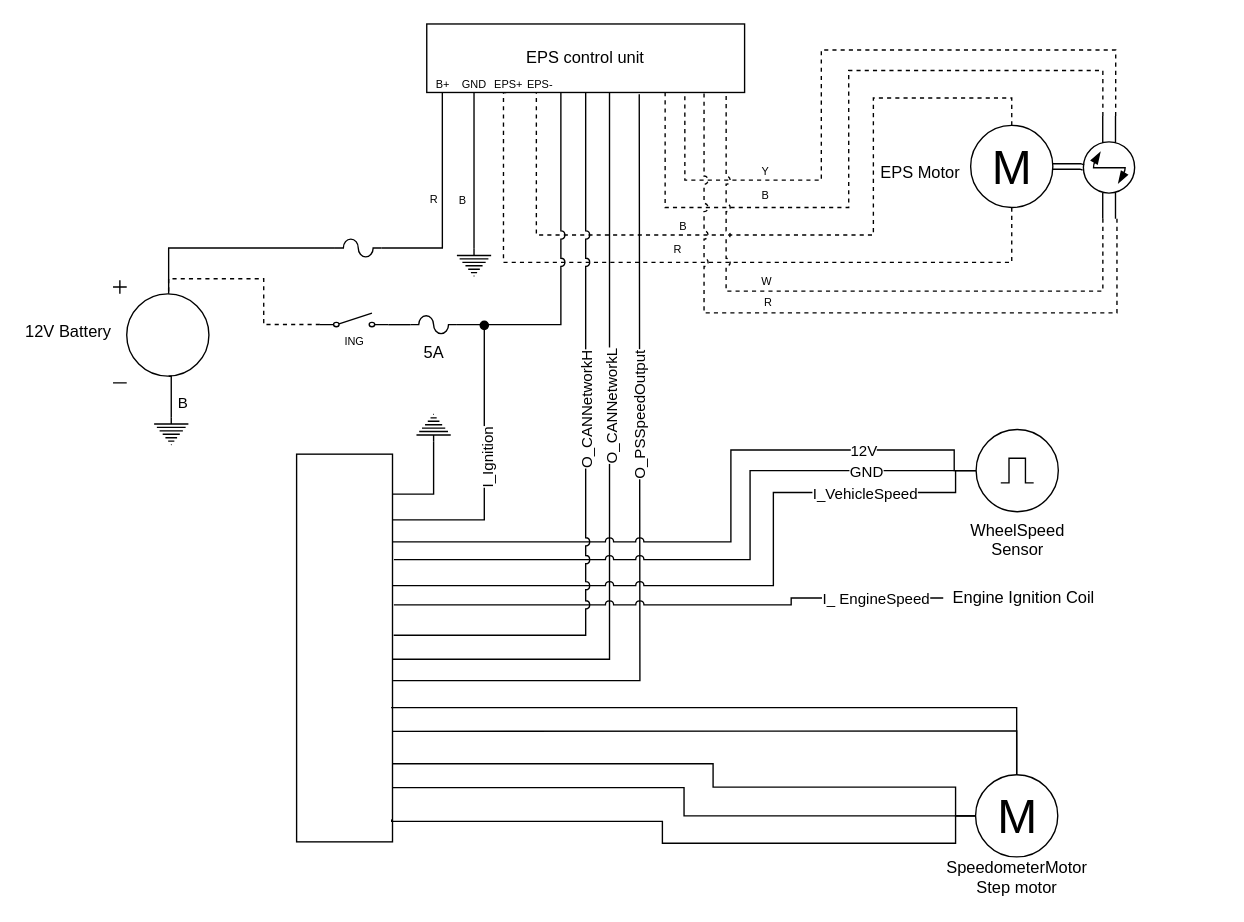
Image size: 1244x922. Some labels were removed from this diagram. Here are the shapes that lost their labels. From the top down, the box of each, then its label:
(1082, 115, 1135, 219): EPS torque sensor
(334, 238, 382, 257): 50A
(295, 453, 393, 842): EPS Integration module
